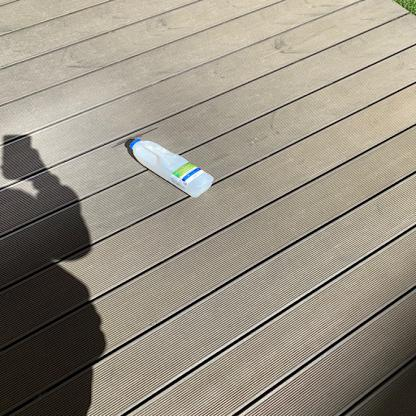trash: (123, 138, 217, 199)
